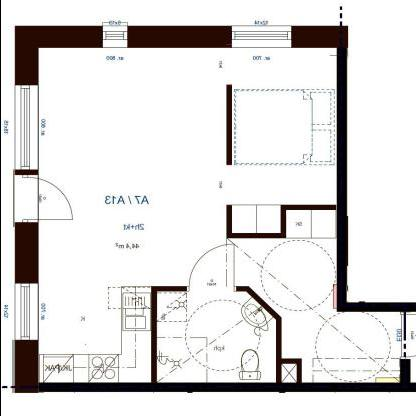door: (8, 172, 78, 230), (185, 234, 237, 298)
window: (8, 82, 44, 174), (227, 22, 297, 52), (12, 280, 44, 344), (98, 18, 131, 54)
